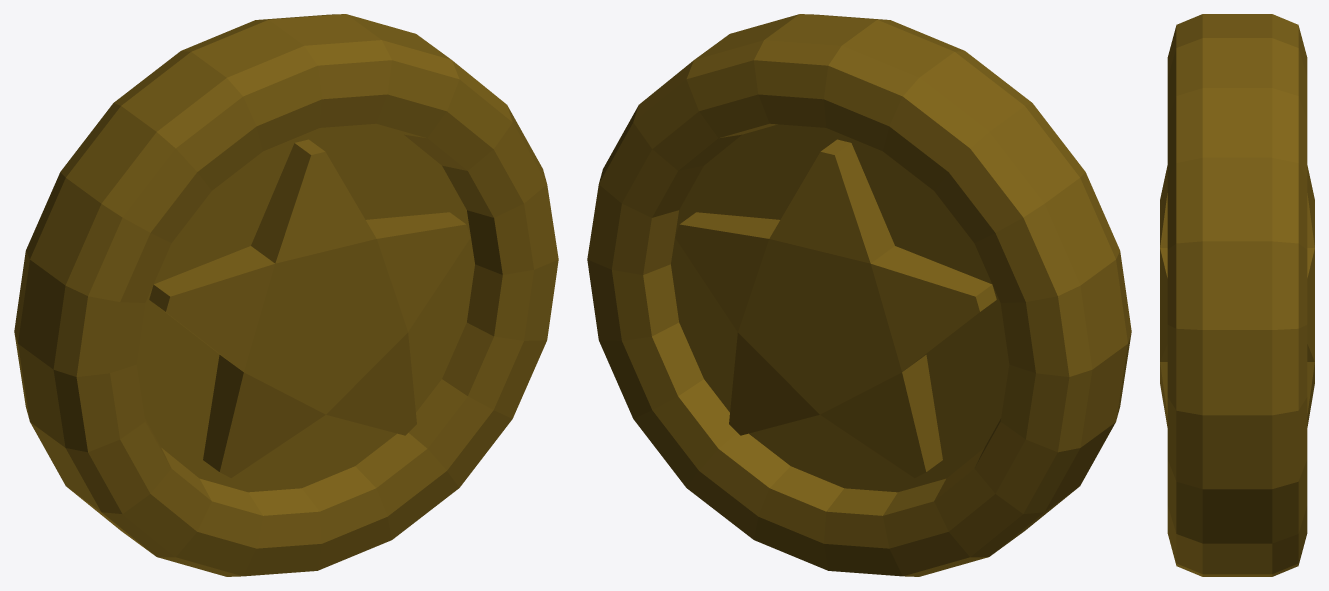
The model's file is Coin.obj.
3 renders of one model, left to right at view 1: azimuth 30°, elevation 25°; view 2: azimuth 150°, elevation 25°; view 3: azimuth 270°, elevation 25°, orthographic. The views are drawn at different scales.
Visible parts, largest first — view 1: Coin_Star; view 2: Coin_Star; view 3: Coin_Star.
Part boxes in pixels (left/top/right/bottom): Coin_Star: left=14, top=14, right=558, bottom=576; Coin_Star: left=587, top=14, right=1131, bottom=576; Coin_Star: left=1160, top=14, right=1314, bottom=576.
Size of the model in its own units: 0.7367 by 0.7376 by 0.2011.
